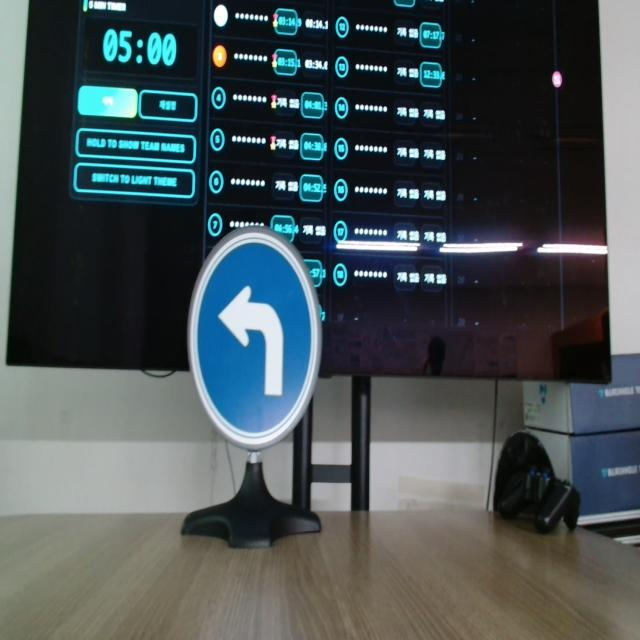left_direction: (188, 228, 322, 456)
